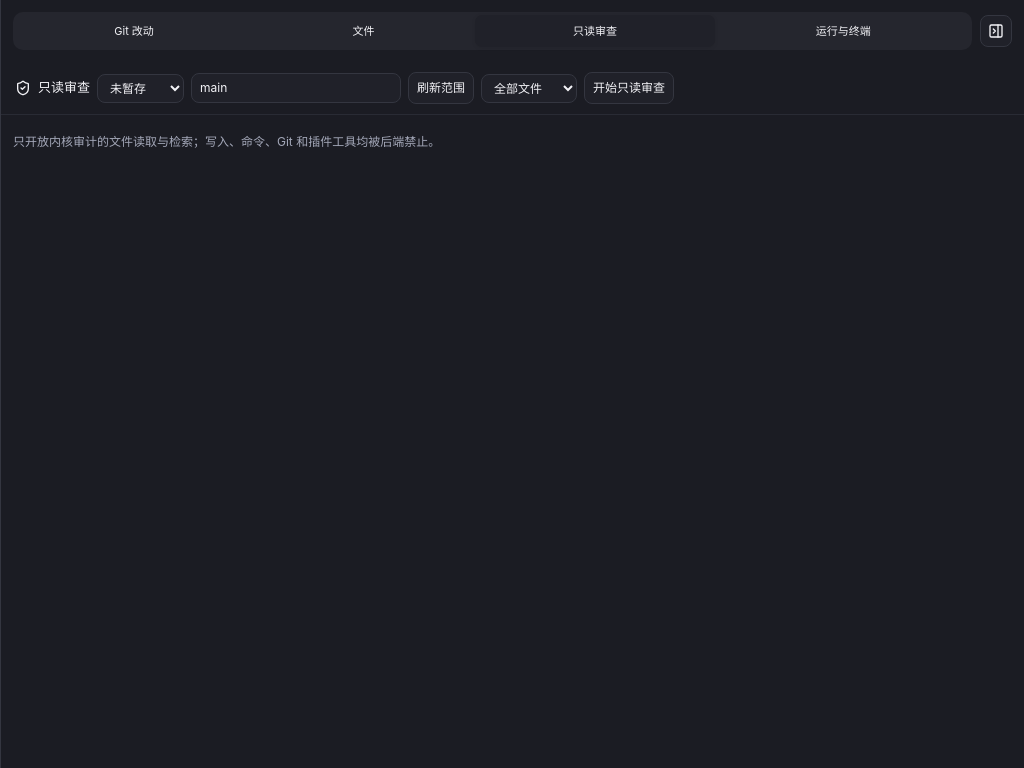
Scenario: shows invalid review output as an error and preserves it in the saved record
This screenshot has width=1024, height=768.
What coordinates should you click on to do the following:
click the button "开始只读审查"
I would click on:
 (629, 88)
Its box is [584,72,674,104].
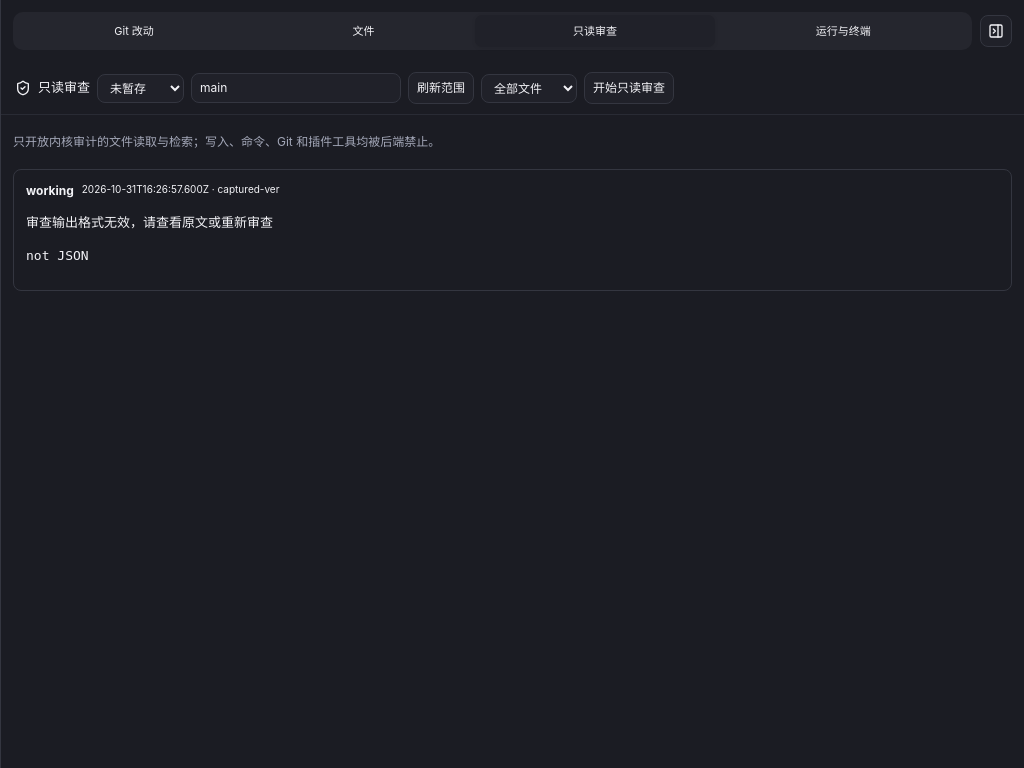
Check: the text "审查输出格式无效，请查看原文或重新审查" is shown, box [26,214,273,230]
Check: the text "not JSON" is shown, box [26,248,89,262]
